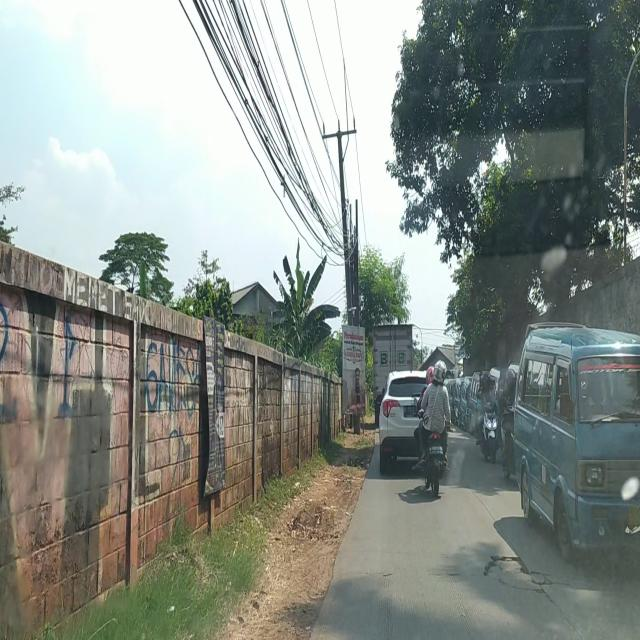Drain Hole: (487, 550, 556, 595)
